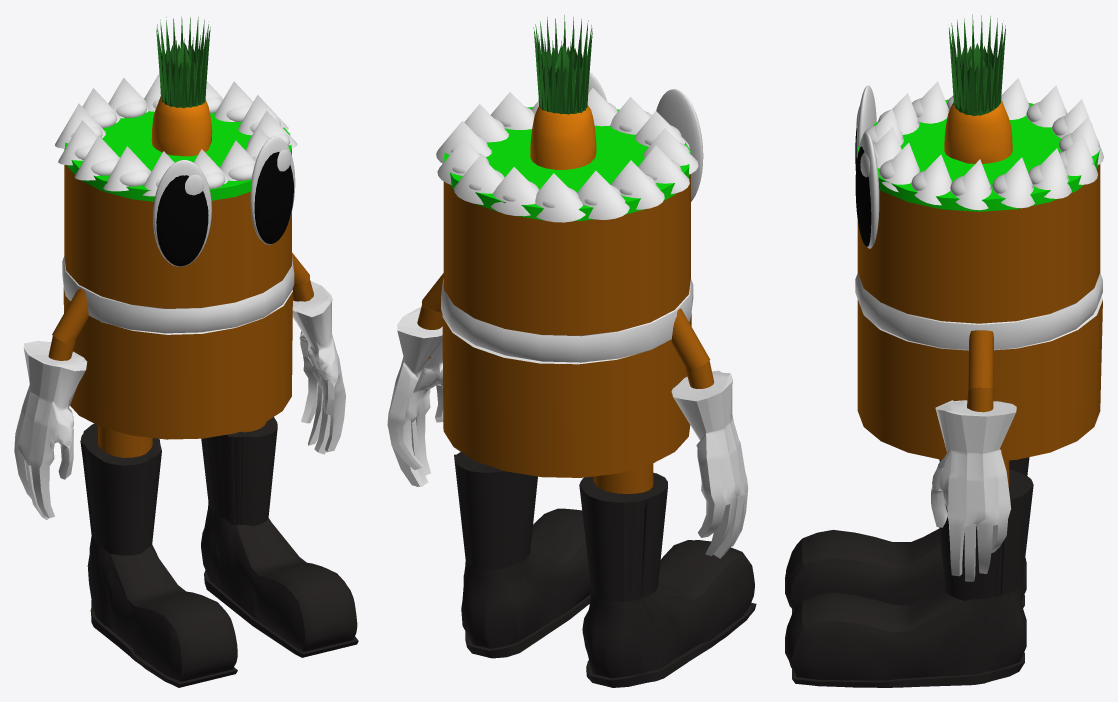
Rendered from cake man.fbx.
3 renders of one model, left to right at view 1: azimuth 30°, elevation 25°; view 2: azimuth 150°, elevation 25°; view 3: azimuth 270°, elevation 25°, orthographic. The views are drawn at different scales.
Parts seen in each view (by area): view 1: pCylinder4, pasted__pCube3, pCube3, pasted__pCube2, pCube2, pasted__pSphere3 (×2), pCone2, pSphere4, pasted__pasted__pSphere3, pasted__pasted__pasted__pCone1 (×2), pasted__pasted__pasted__pasted__pCone1 (×2), pSphere3 (+7 smaller); view 2: pCylinder4, pasted__pCube3, pCube3, pasted__pCube2, pCube2, pCone2, pSphere4, pasted__pasted__pasted__pasted__pasted__pasted__pCone1 (×2), pasted__pasted__pasted__pasted__pasted__pCone1 (×2), pasted__pasted__pasted__pasted__pCone1 (×2), pSphere3, pasted__pasted__pasted__pCone1 (×2) (+8 smaller); view 3: pCylinder4, pCube3, pCube2, pasted__pCube3, pCone2, pSphere4, pasted__pasted__pasted__pCone1 (×2), pasted__pasted__pasted__pasted__pasted__pCone1 (×2), pasted__pasted__pasted__pasted__pasted__pasted__pCone1 (×2), pasted__pasted__pCone1 (×2), pasted__pCylinder1, pasted__pCone1 (×2) (+8 smaller).
Part boxes in pixels (x1=…): pCylinder4: x1=62, y1=98, x2=294, y2=439; pasted__pCube3: x1=80, y1=423, x2=237, y2=687; pCube3: x1=201, y1=417, x2=358, y2=657; pasted__pCube2: x1=14, y1=341, x2=87, y2=519; pCube2: x1=292, y1=281, x2=345, y2=454; pasted__pSphere3 (×2): x1=156, y1=136, x2=295, y2=266; pCone2: x1=156, y1=17, x2=210, y2=108; pSphere4: x1=151, y1=96, x2=212, y2=156; pasted__pasted__pSphere3: x1=254, y1=151, x2=293, y2=243; pasted__pasted__pasted__pCone1 (×2): x1=103, y1=95, x2=288, y2=191; pasted__pasted__pasted__pasted__pCone1 (×2): x1=74, y1=81, x2=252, y2=180; pSphere3: x1=153, y1=160, x2=211, y2=266; pCylinder4: x1=441, y1=107, x2=693, y2=477; pasted__pCube3: x1=579, y1=472, x2=756, y2=687; pCube3: x1=454, y1=452, x2=590, y2=658; pasted__pCube2: x1=671, y1=370, x2=748, y2=558; pCube2: x1=387, y1=307, x2=443, y2=486; pCone2: x1=533, y1=15, x2=592, y2=114; pSphere4: x1=530, y1=105, x2=596, y2=169; pasted__pasted__pasted__pasted__pasted__pasted__pCone1 (×2): x1=454, y1=155, x2=629, y2=219; pasted__pasted__pasted__pasted__pasted__pCone1 (×2): x1=437, y1=138, x2=664, y2=209; pasted__pasted__pasted__pasted__pCone1 (×2): x1=436, y1=121, x2=689, y2=193; pSphere3: x1=656, y1=89, x2=703, y2=201; pasted__pasted__pasted__pCone1 (×2): x1=464, y1=104, x2=698, y2=174; pCylinder4: x1=855, y1=99, x2=1102, y2=460; pCube3: x1=785, y1=470, x2=1033, y2=687; pCube2: x1=931, y1=400, x2=1016, y2=581; pasted__pCube3: x1=785, y1=457, x2=1029, y2=613; pCone2: x1=949, y1=14, x2=1005, y2=115; pSphere4: x1=944, y1=99, x2=1012, y2=163; pasted__pasted__pasted__pCone1 (×2): x1=918, y1=81, x2=991, y2=210; pasted__pasted__pasted__pasted__pasted__pCone1 (×2): x1=1001, y1=78, x2=1071, y2=198; pasted__pasted__pasted__pasted__pasted__pasted__pCone1 (×2): x1=1031, y1=85, x2=1097, y2=184; pasted__pasted__pCone1 (×2): x1=892, y1=93, x2=950, y2=205; pasted__pCylinder1: x1=968, y1=330, x2=993, y2=389; pasted__pCone1 (×2): x1=874, y1=109, x2=918, y2=192.
Bounding box in the file's own units: 4.58 × 8.04 × 3.77.
